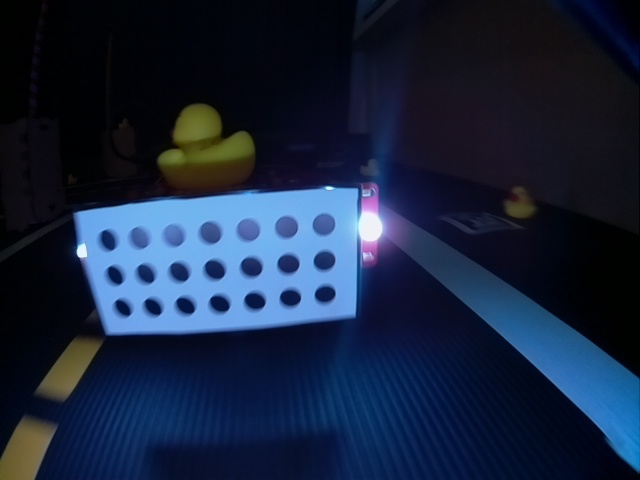Duckie: (162, 106, 254, 188), (507, 187, 532, 217), (362, 159, 380, 176)
Duckiebot: (74, 153, 382, 335)
QR code: (439, 212, 519, 234)
